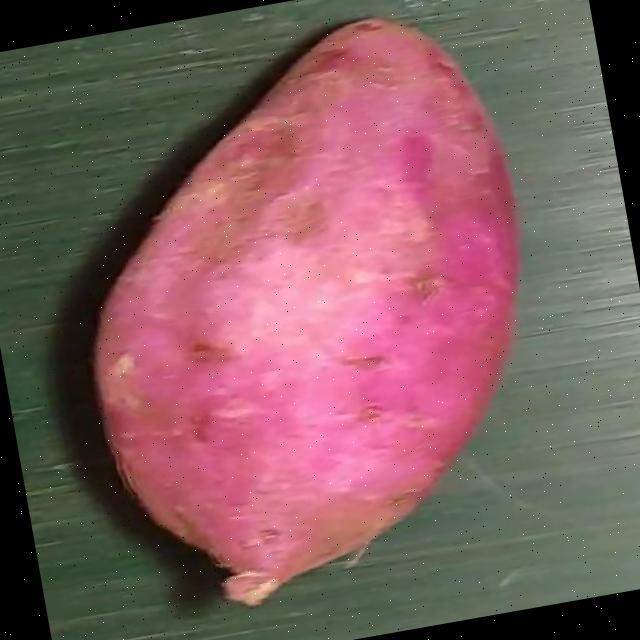Sweet Potato: (97, 16, 512, 607)
